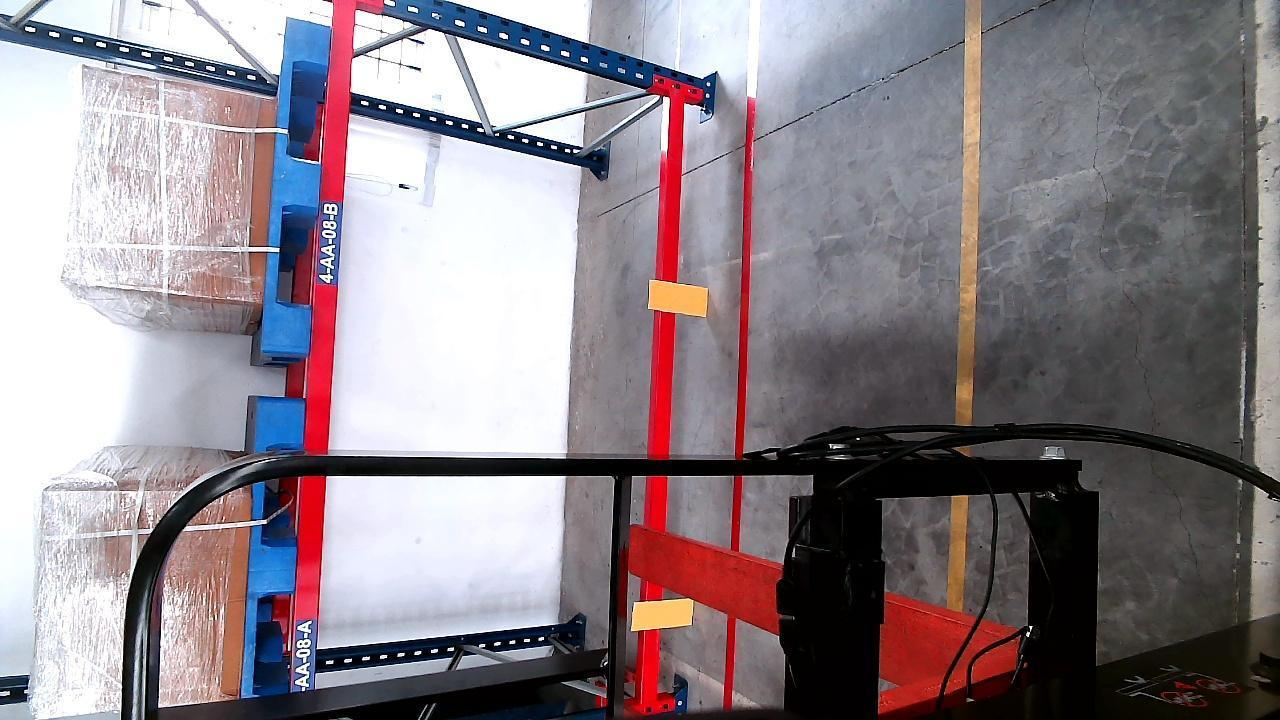h_rack: (297, 3, 350, 690), (646, 98, 687, 718)
orange_strip: (633, 598, 696, 630), (653, 280, 708, 315)
small_pallet: (261, 14, 327, 358), (245, 395, 305, 693)
yellow_line: (947, 1, 983, 614), (721, 86, 756, 707)
